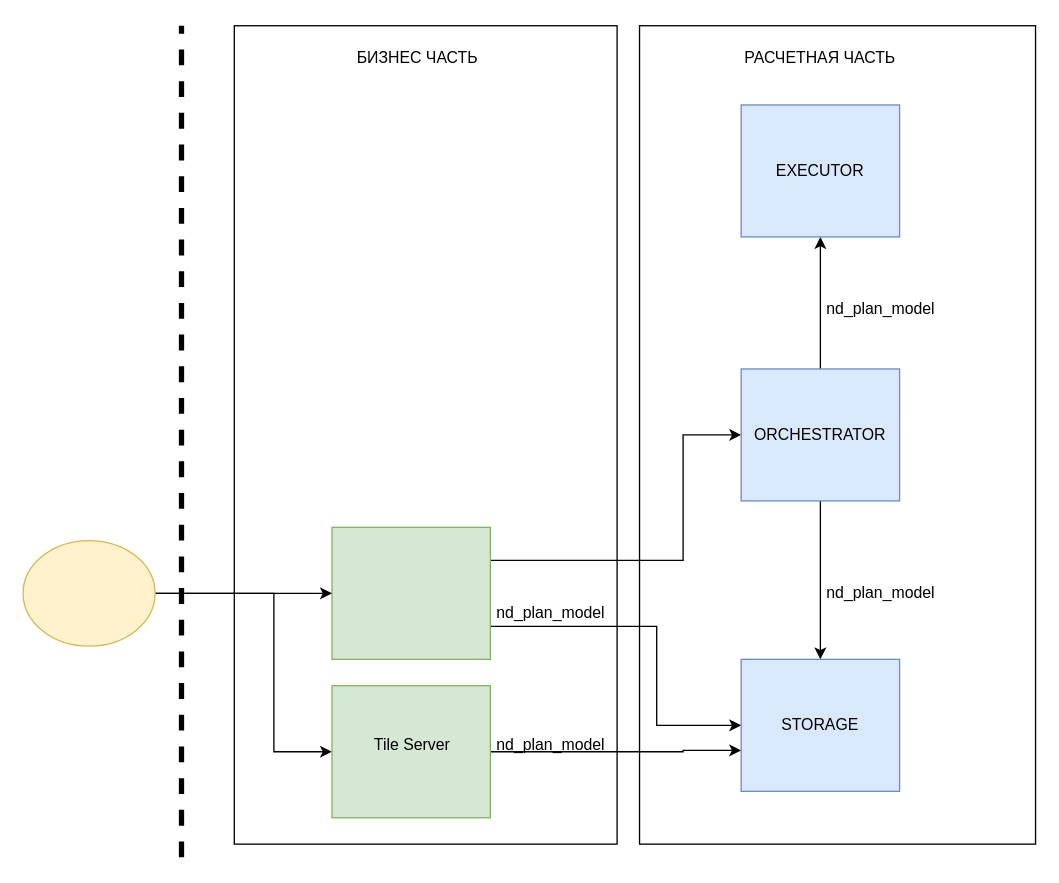
Image size: 1059x883. Some labels were removed from this diagram. Each missing label, with the box of its shape:
API: (331, 526, 490, 659)
CLIENT: (22, 539, 155, 646)
